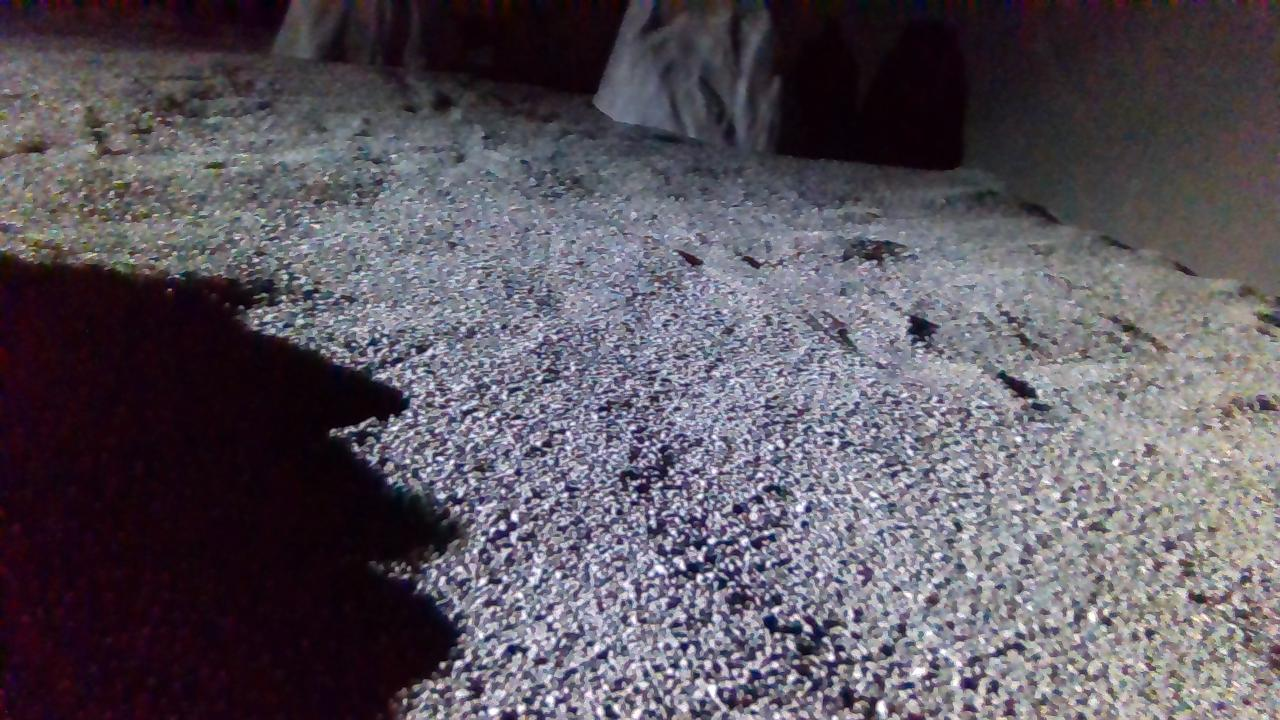rock: (595, 0, 782, 148), (271, 0, 423, 64)
